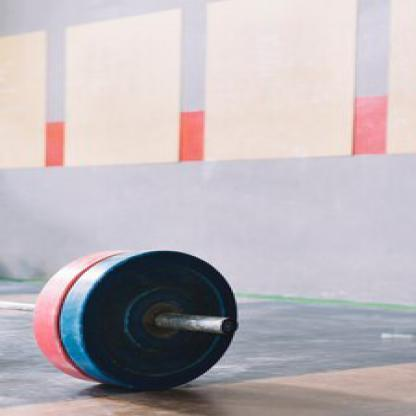Barbell: (216, 309, 243, 346)
